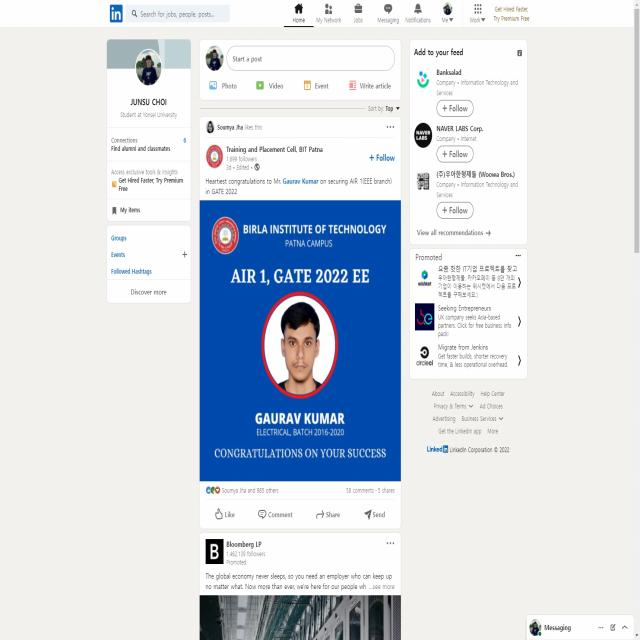menu-bar: (280, 1, 490, 26)
side-panel: (104, 36, 192, 304)
